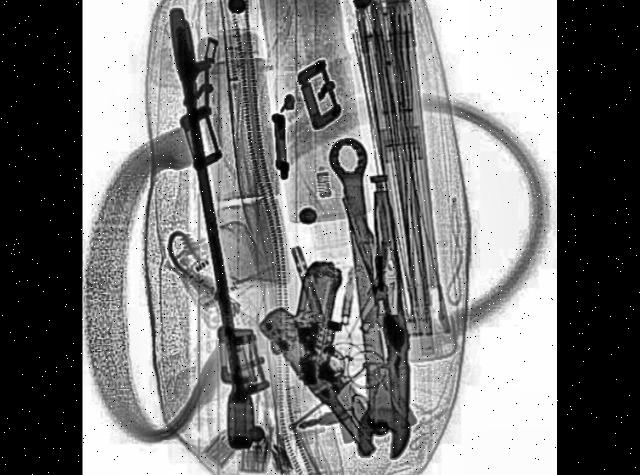Gun: (261, 236, 424, 463)
Wrench: (163, 0, 260, 454), (328, 130, 415, 464)
